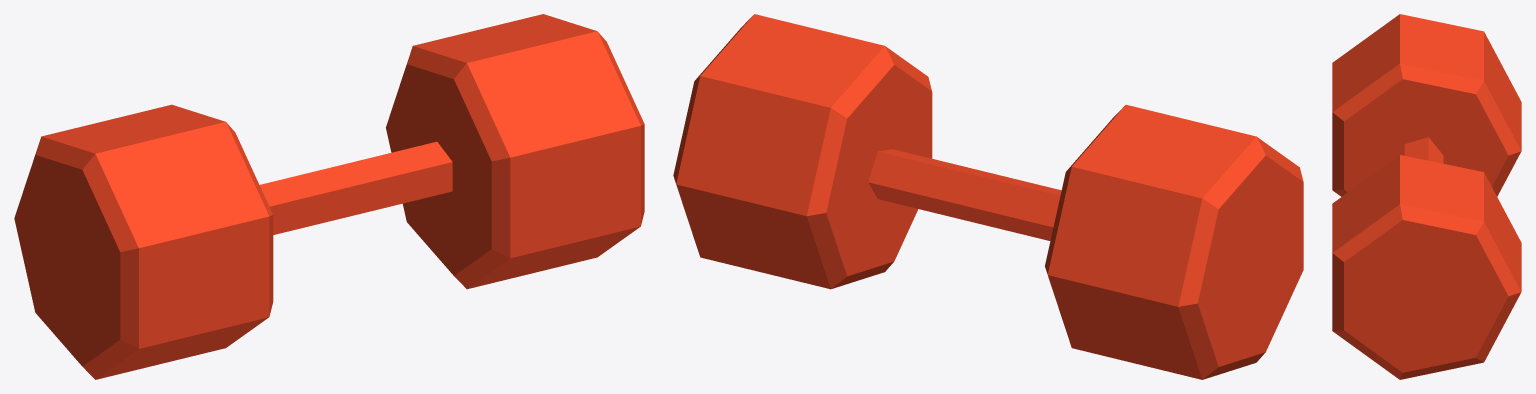
File: SM_Dumbbell_Gym_A_City.fbx
The picture shows the model from 3 angles, left to right: view 1: azimuth 30°, elevation 25°; view 2: azimuth 150°, elevation 25°; view 3: azimuth 270°, elevation 25°; orthographic projection. The views are drawn at different scales.
Parts seen in each view (by area): view 1: SM_Dumbbell_Gym_A_City; view 2: SM_Dumbbell_Gym_A_City; view 3: SM_Dumbbell_Gym_A_City.
Part boxes in pixels (<box>): SM_Dumbbell_Gym_A_City: <box>14,14,644,379</box>; SM_Dumbbell_Gym_A_City: <box>673,14,1303,379</box>; SM_Dumbbell_Gym_A_City: <box>1332,14,1521,379</box>.
Size of the model in its own units: 0.4587 by 0.1891 by 0.1843.
